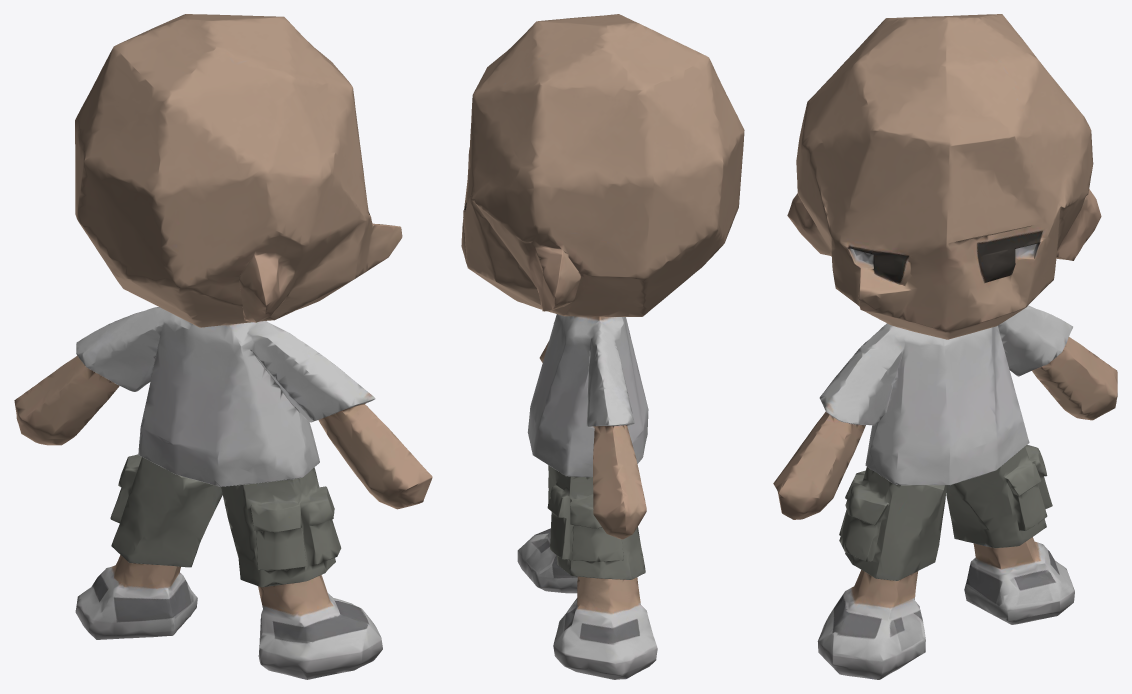
Rendered from dressed.glb.
3 renders of one model, left to right at view 1: azimuth 30°, elevation 25°; view 2: azimuth 150°, elevation 25°; view 3: azimuth 270°, elevation 25°, orthographic. The views are drawn at different scales.
Parts seen in each view (by area): view 1: tripo_node_2b273e71-171a-4045-9f67-a2410993bf64; view 2: tripo_node_2b273e71-171a-4045-9f67-a2410993bf64; view 3: tripo_node_2b273e71-171a-4045-9f67-a2410993bf64.
Part boxes in pixels (x1=…): tripo_node_2b273e71-171a-4045-9f67-a2410993bf64: x1=14, y1=14, x2=432, y2=679; tripo_node_2b273e71-171a-4045-9f67-a2410993bf64: x1=461, y1=14, x2=744, y2=679; tripo_node_2b273e71-171a-4045-9f67-a2410993bf64: x1=773, y1=14, x2=1117, y2=679.
Size of the model in its own units: 0.453 by 1 by 0.5144.
1 material, 1 textured.
